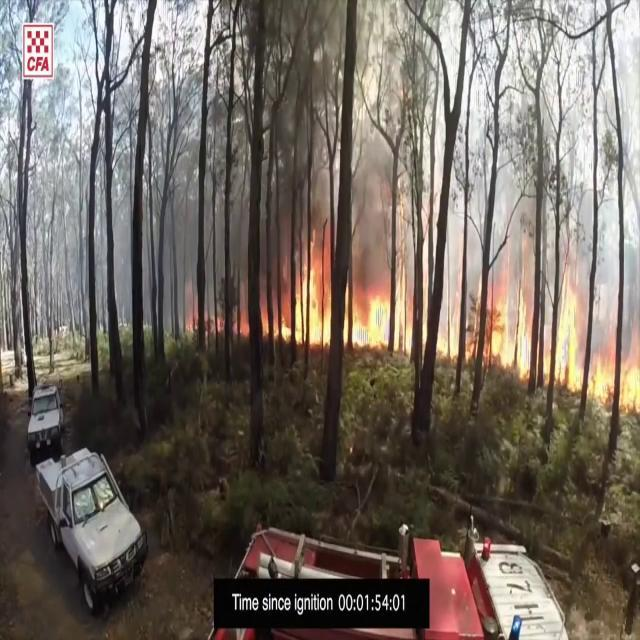Fire: (268, 202, 408, 352), (462, 268, 576, 386), (551, 270, 640, 415)
Smoke: (202, 1, 364, 345)
